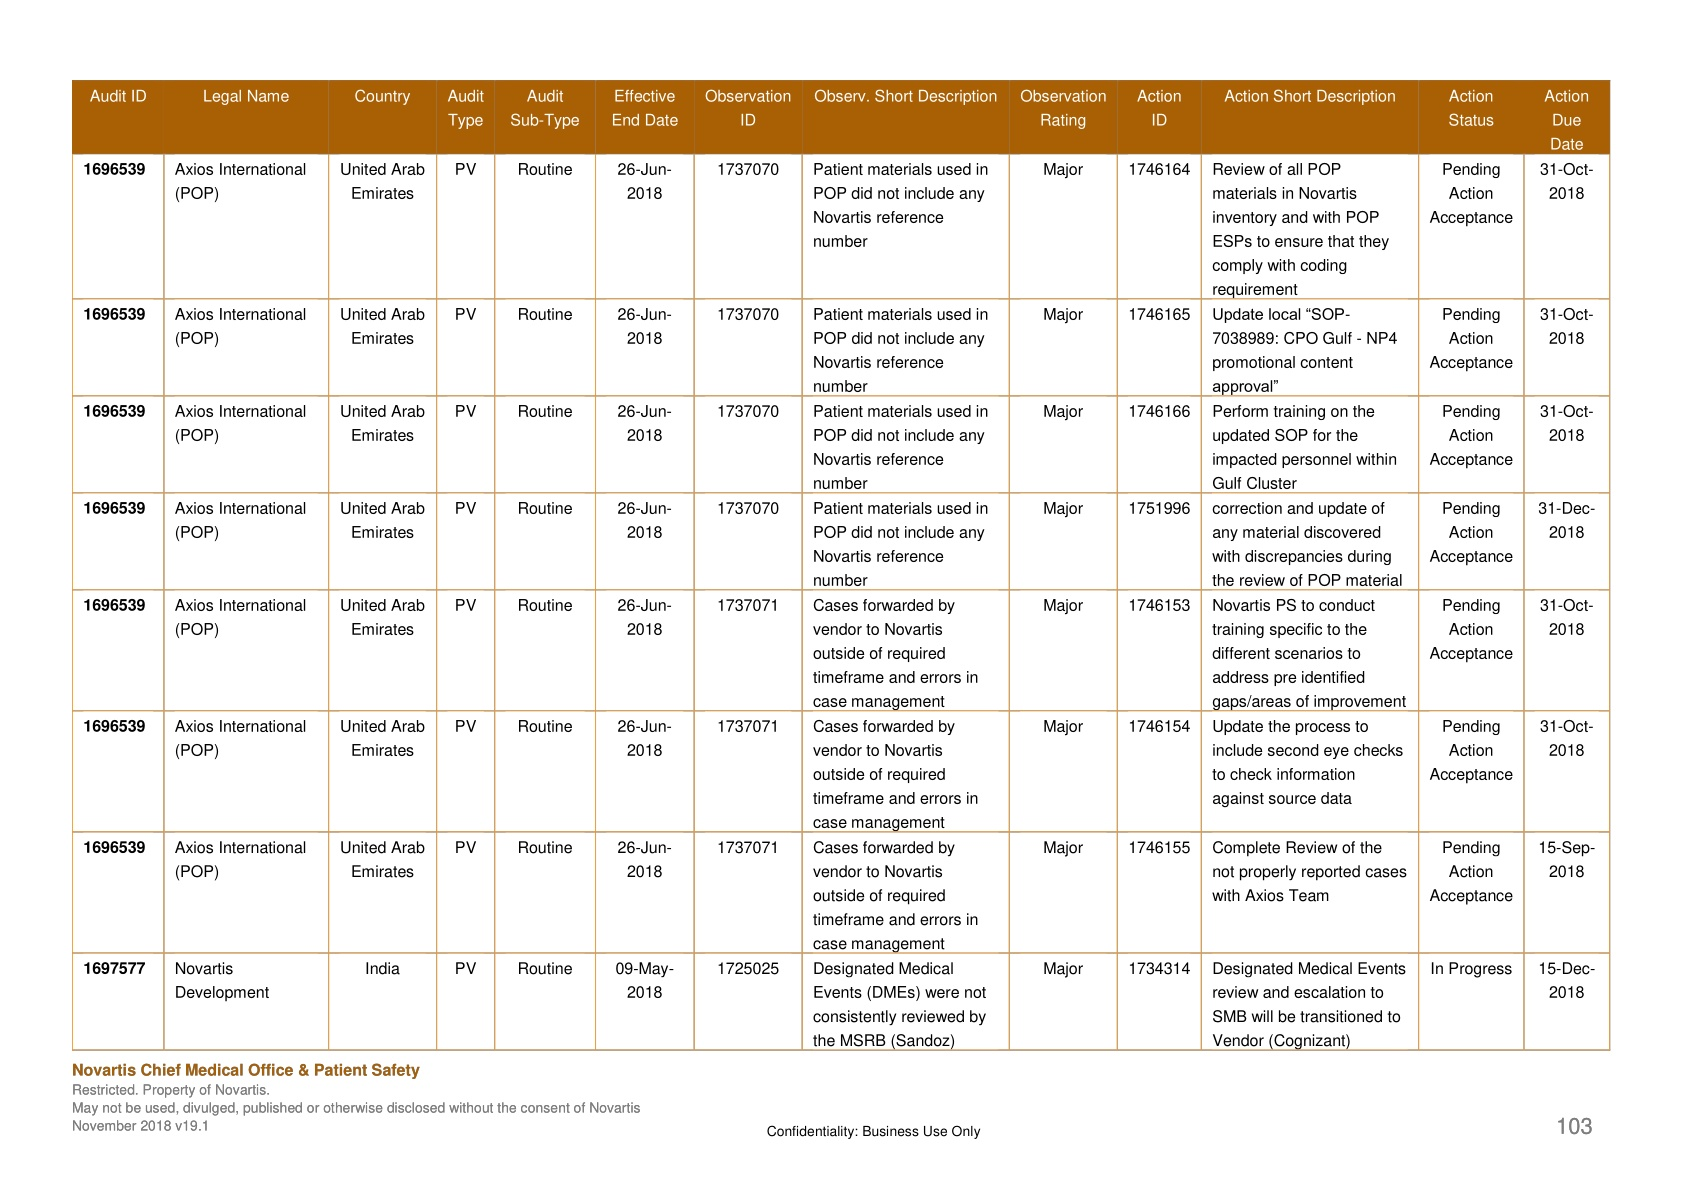full_lined: (77, 84, 1612, 1050)
